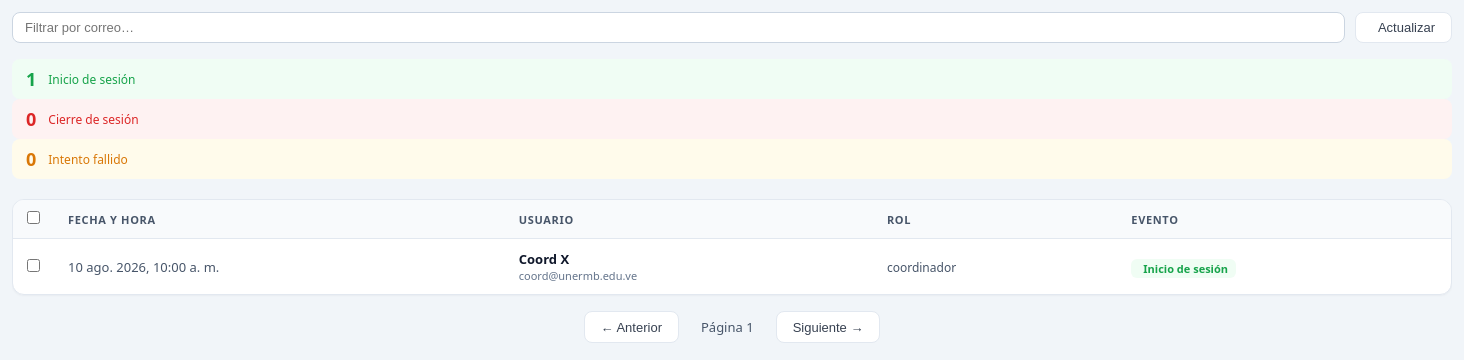
TabSesiones — selección y borrado (admin_borrar_session_logs) › seleccionar una fila muestra el botón de borrar con el conteo correcto
Expected: the text "coord@unermb.edu.ve" is shown, [519,268,637,283]
Click the checkbox named "Seleccionar este registro" at (34, 265), box [27,258,40,272]
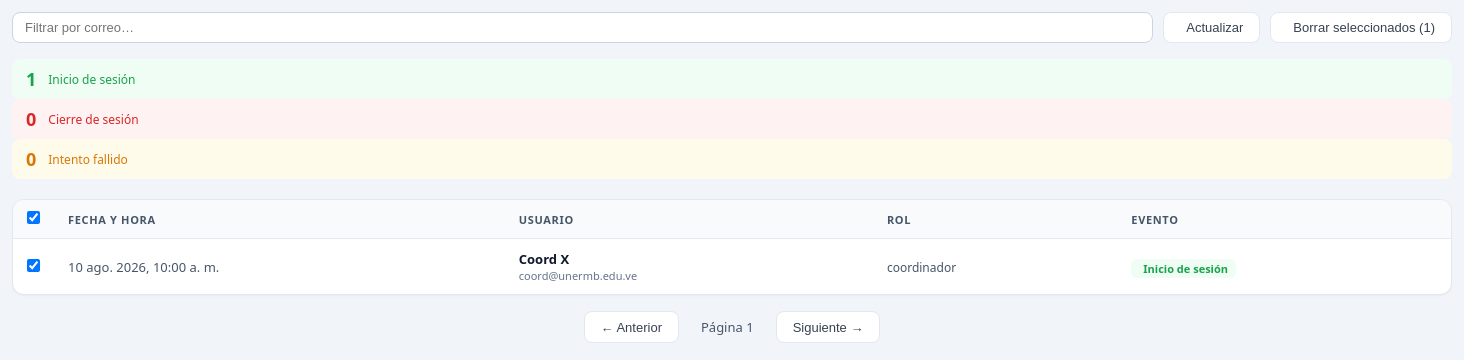
Result: the button "Borrar seleccionados (1)" is shown at [1270,12,1452,43]
